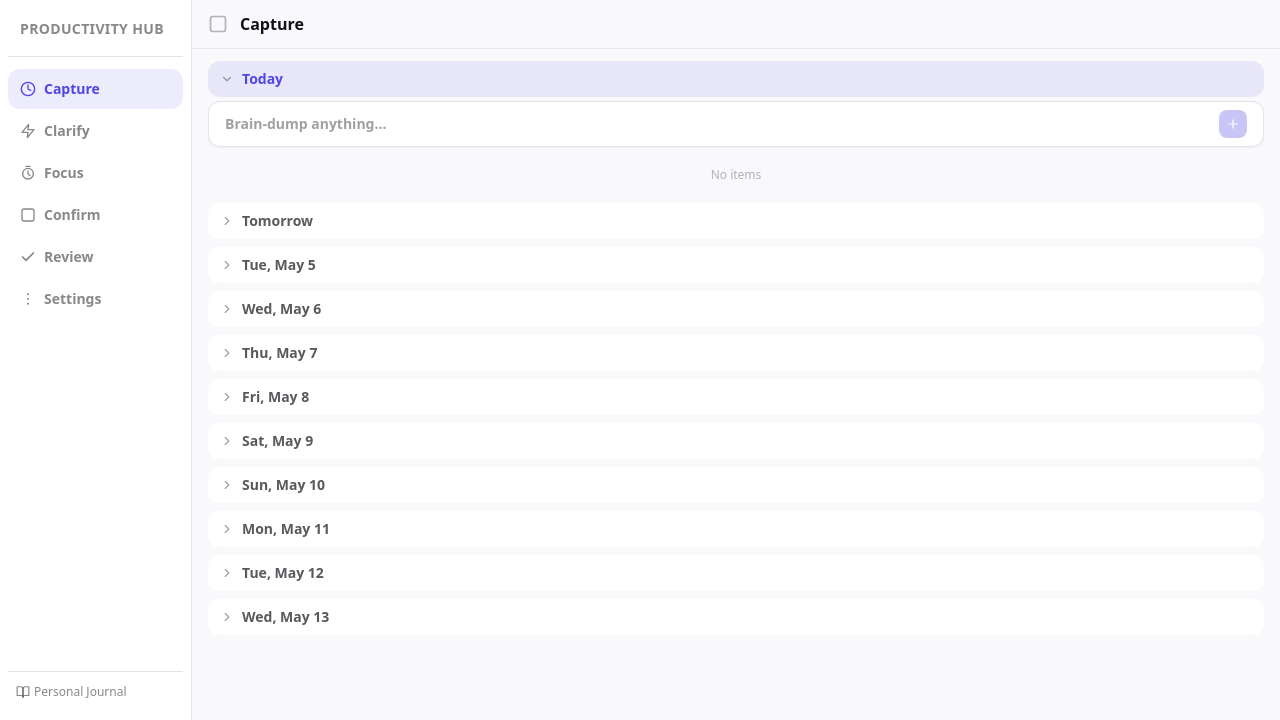
App Shell › T2-16: clicking Focus tab renders Focus section timer
The width and height of the screenshot is (1280, 720).
Click the button with aria-label "Go to Focus".
click(96, 173)  # box [8,153,183,193]
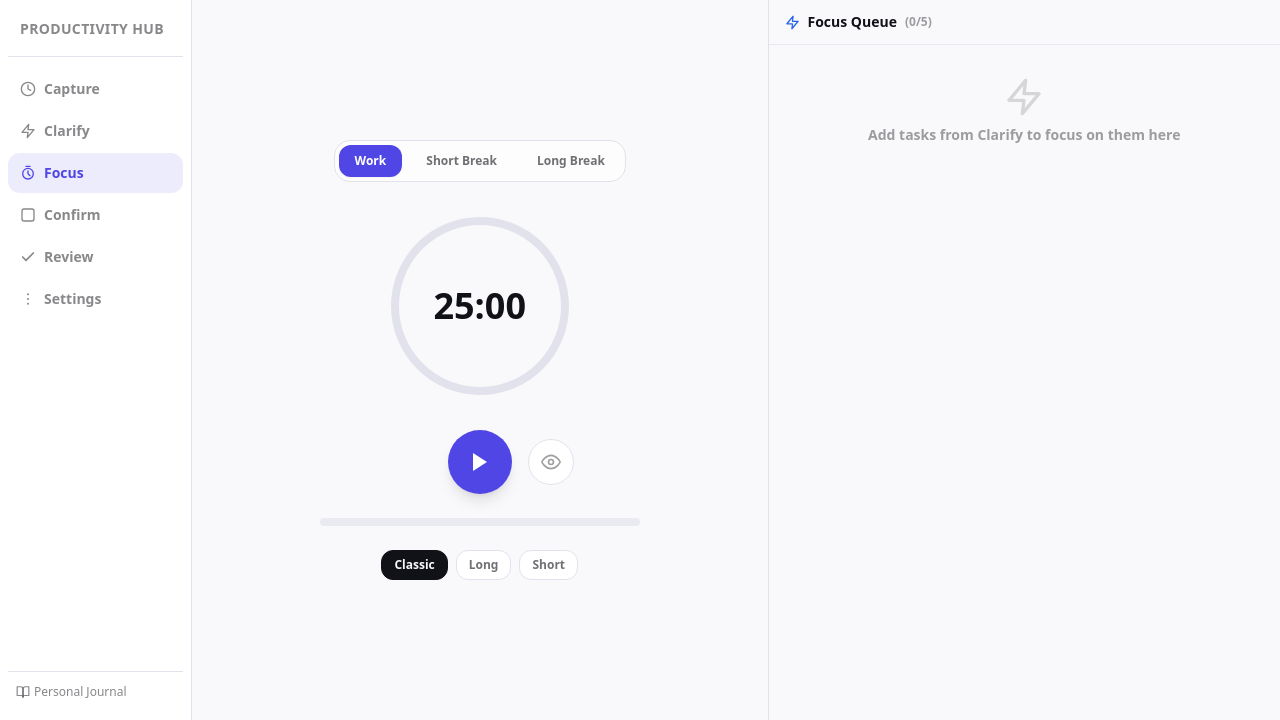
Now the text "25:00" is shown, box [433,286,526,326]
